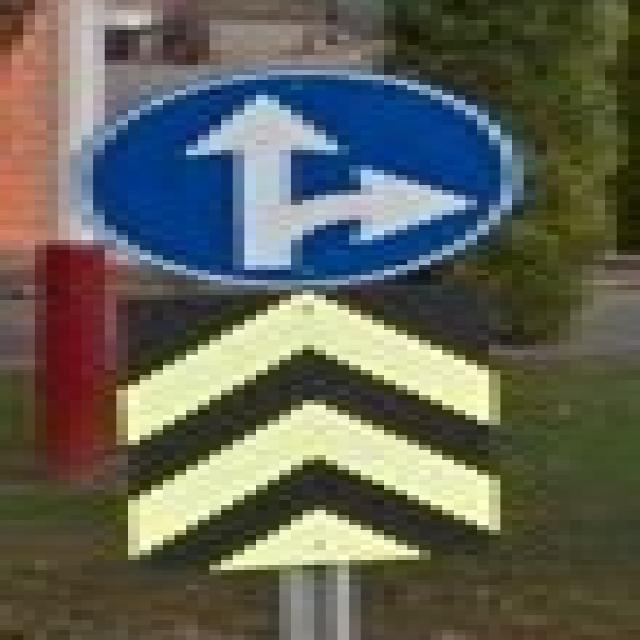Straight or Right: (77, 74, 519, 284)
